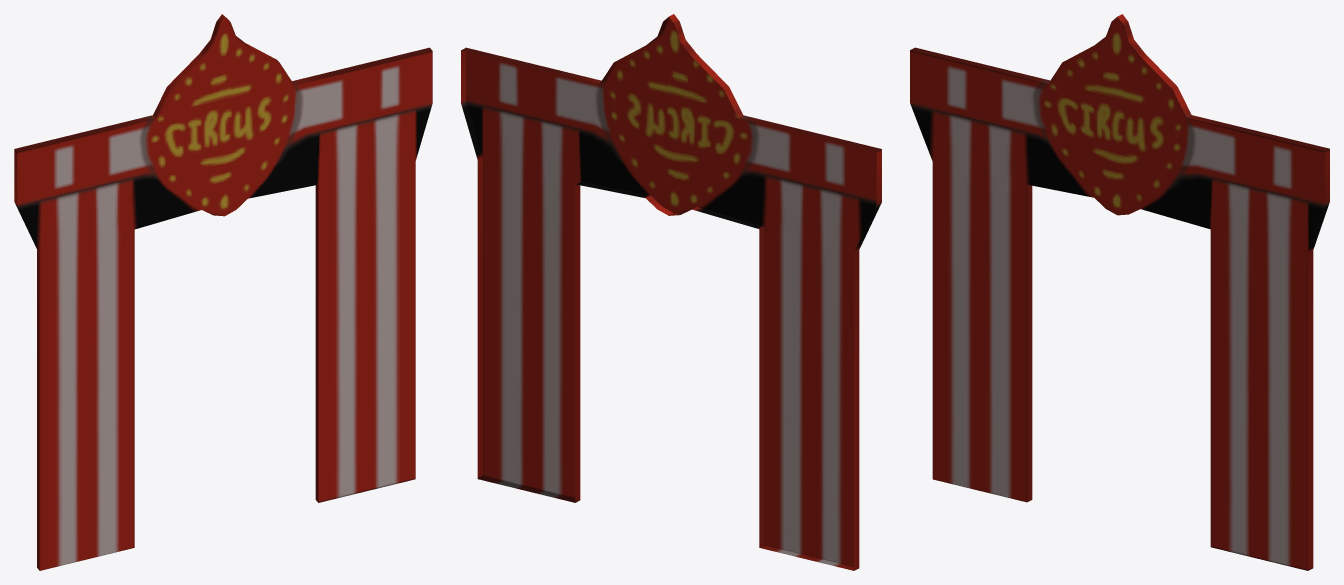
The model's file is CardboardCutout_Archway_RedWhite_Scaled.fbx.
3 views of the same model, side by side, from view 1: azimuth 30°, elevation 25°; view 2: azimuth 150°, elevation 25°; view 3: azimuth 330°, elevation 25° (orthographic).
Parts seen in each view (by area): view 1: StripeArchway1; view 2: StripeArchway1; view 3: StripeArchway1.
Boxes of the visible parts, x1=… form: StripeArchway1: x1=14, y1=14, x2=432, y2=570; StripeArchway1: x1=461, y1=14, x2=881, y2=570; StripeArchway1: x1=910, y1=14, x2=1329, y2=570.
Size of the model in its own units: 300 by 350 by 4.98.
